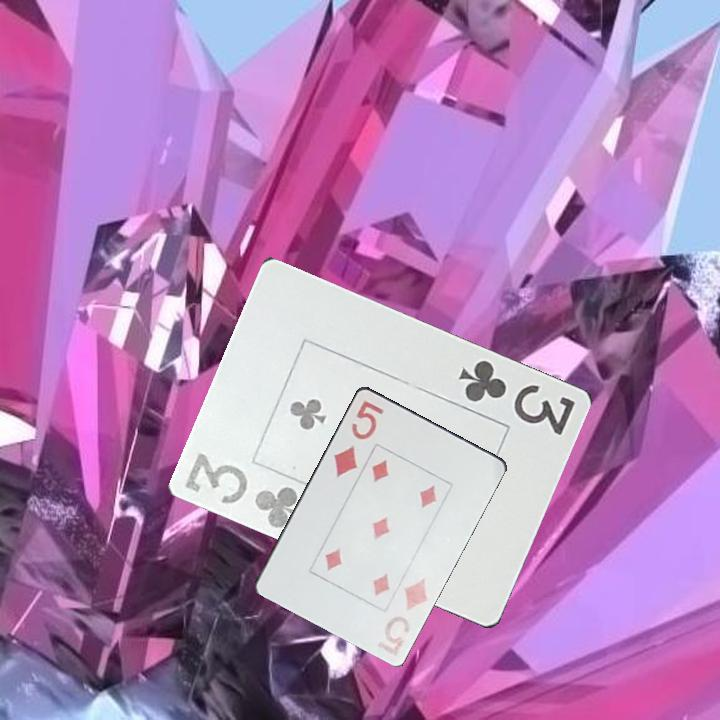3c: (454, 356, 579, 439), (181, 449, 307, 531)
5d: (330, 396, 386, 480), (381, 574, 430, 648)
